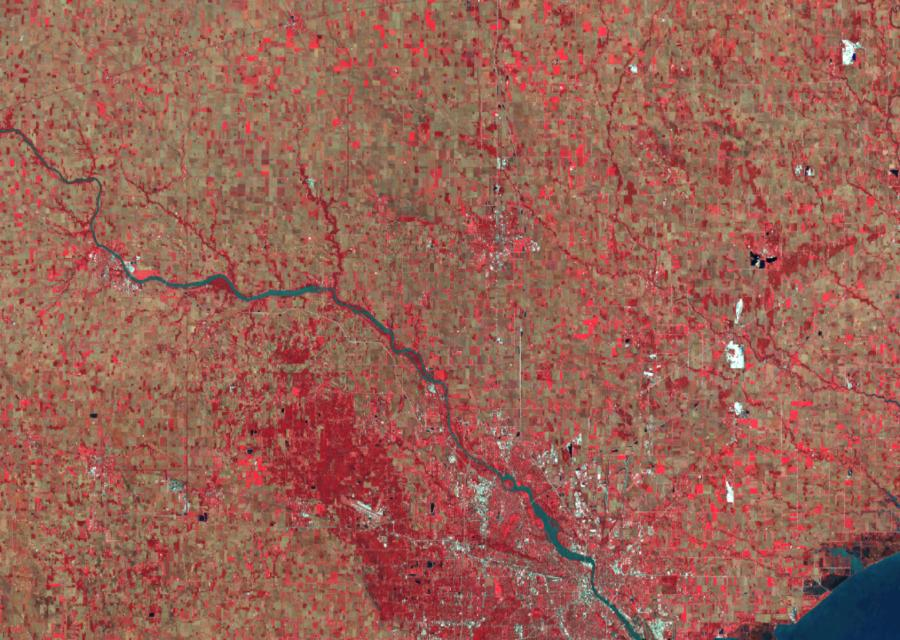Potential Lime Manufacturing Facility: (725, 342, 745, 368)
